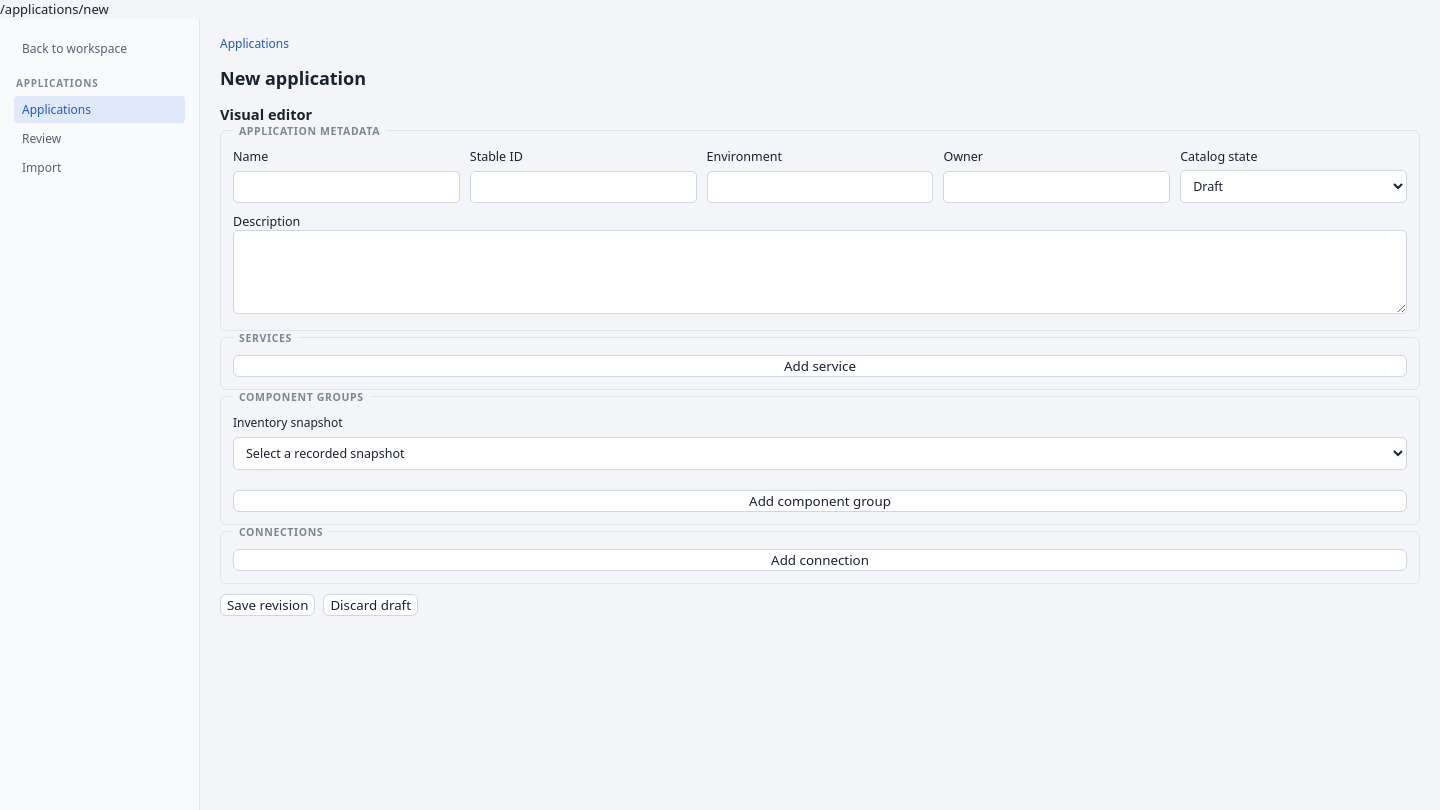
Test: Unsaved changes › asks before a link leaves a new application with unsaved changes
Step 1. Type "Intranet production" into the field labelled "Name" → coordinates (346, 187), box left=233, top=171, right=460, bottom=203
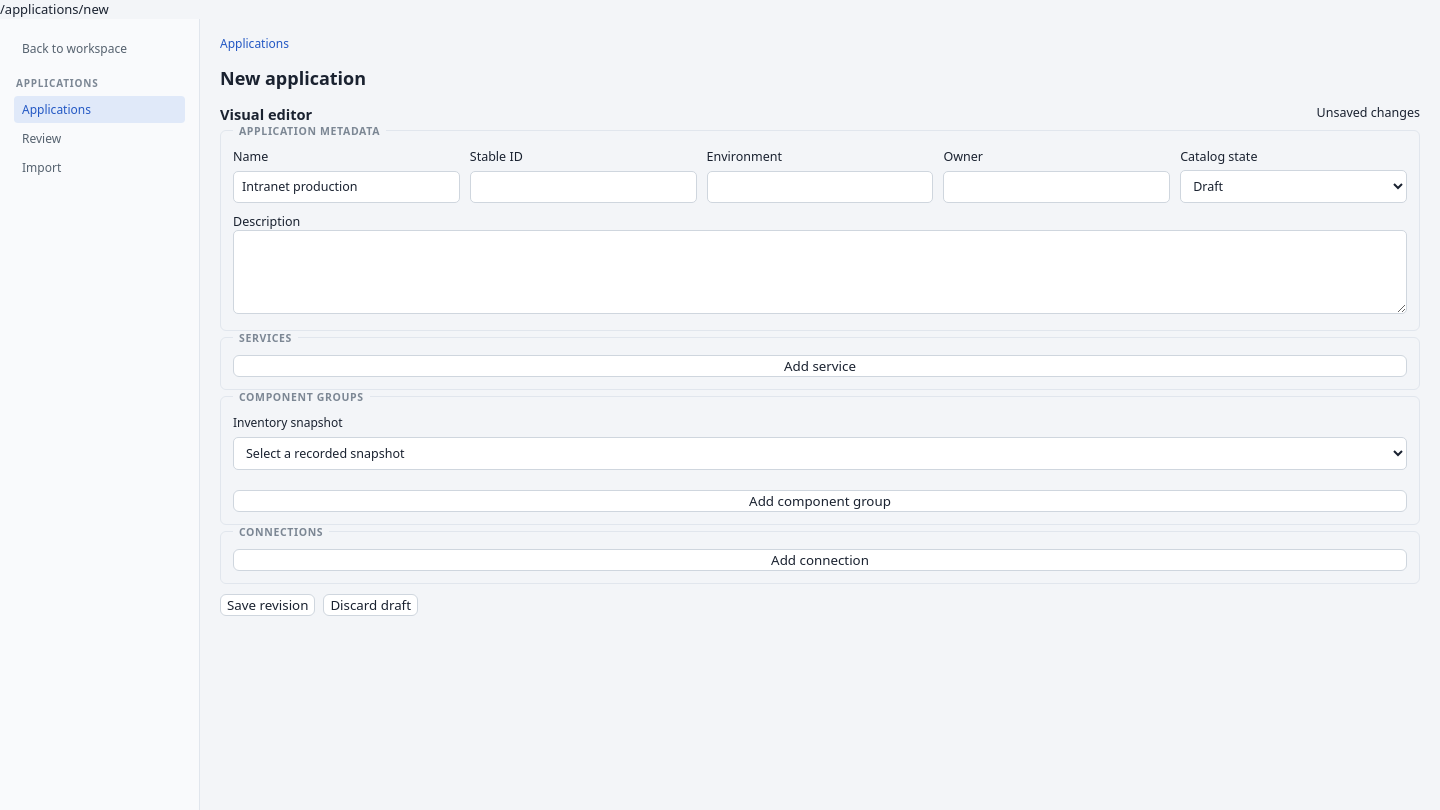
Step 2. Click the 1st link "Applications" → coordinates (254, 43), box left=220, top=35, right=289, bottom=52
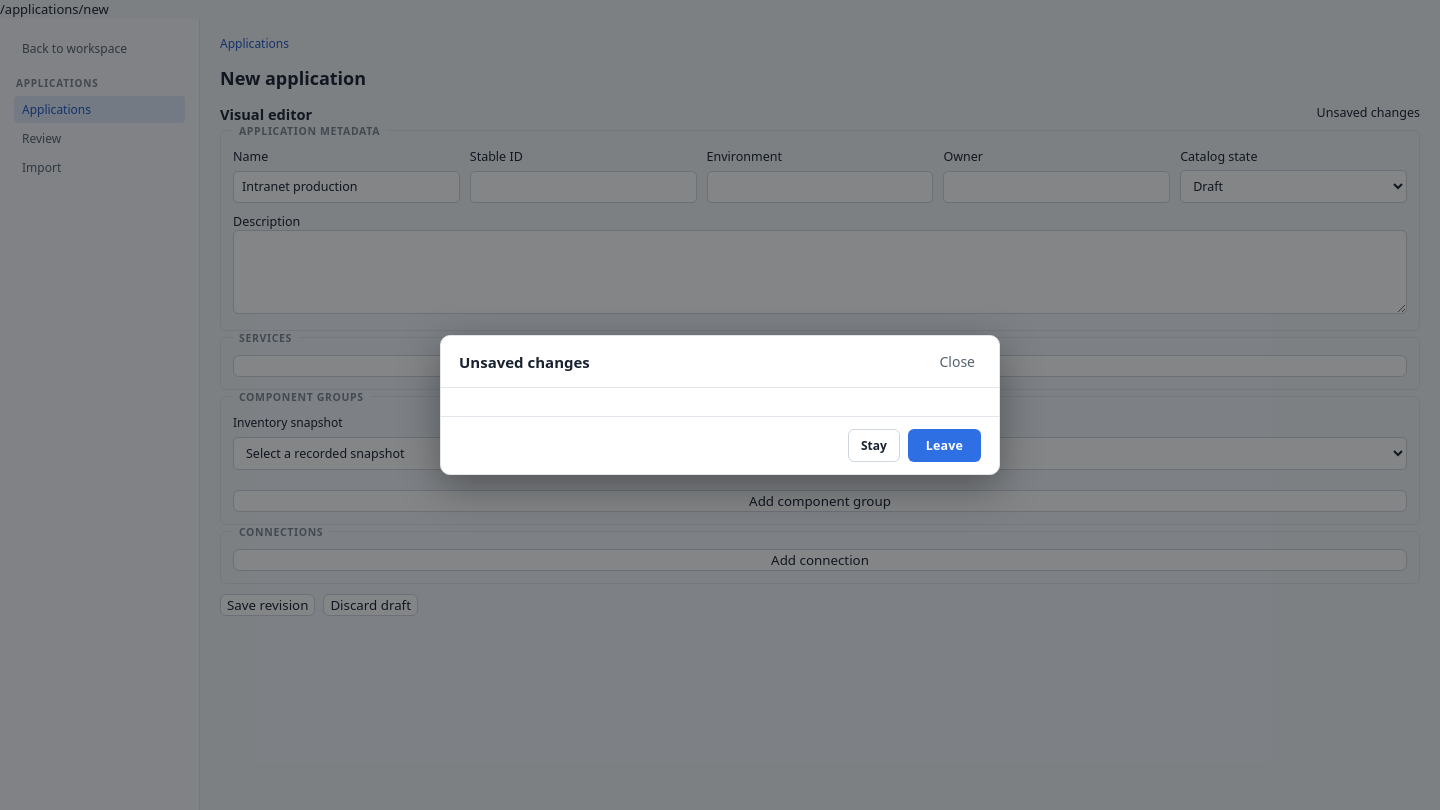
Expected: the text named "Location" reads "/applications/new", left=0, top=0, right=109, bottom=18
Expected: the dialog "Unsaved changes" is shown, left=440, top=335, right=1000, bottom=475
